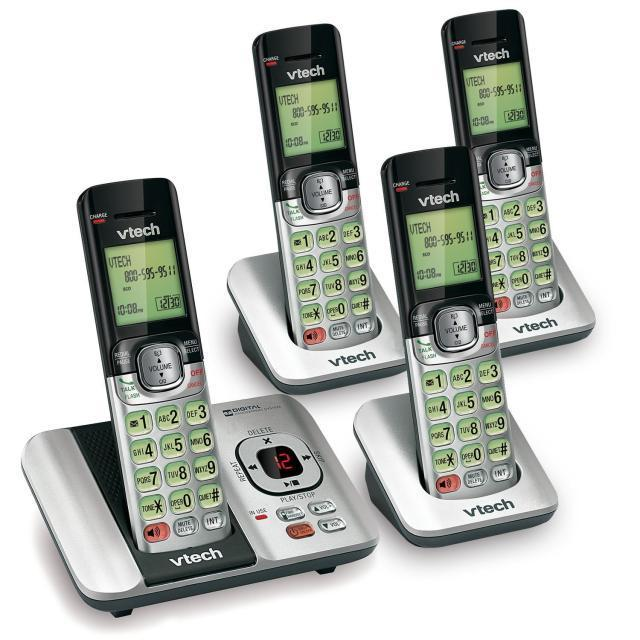cellphone: (26, 178, 361, 580), (341, 144, 558, 558), (424, 4, 609, 356), (240, 23, 404, 377)
